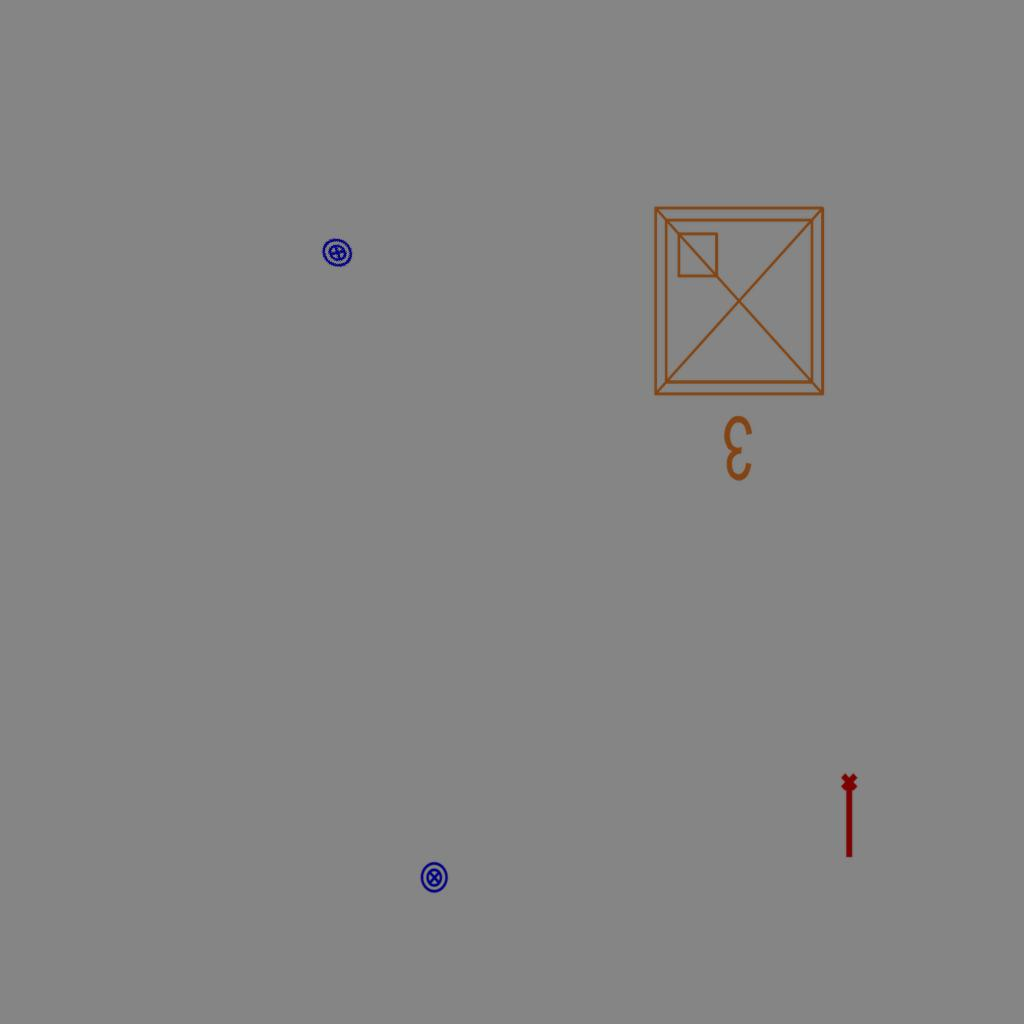ASR_Ansaugoeffnung: (839, 772, 862, 860)
Einbaudownlights_LED_Konferenzraeume: (639, 192, 847, 492)
Taster_beleuchtet: (315, 230, 360, 275), (418, 861, 451, 894)
